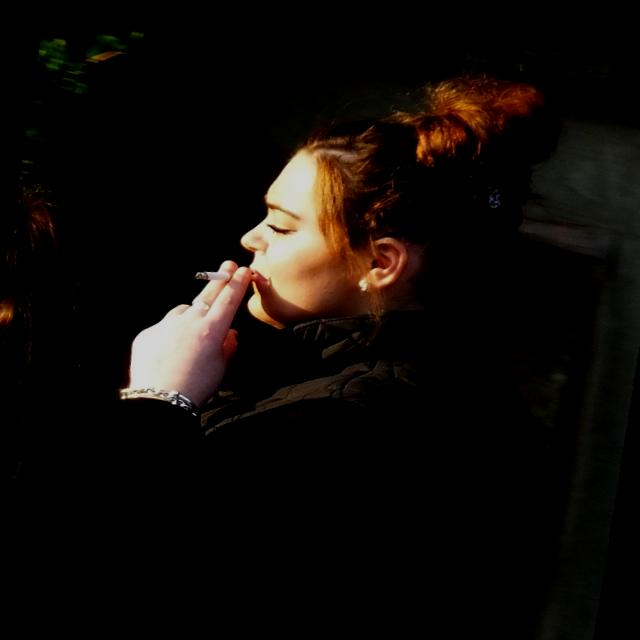smoke: (186, 260, 260, 296)
